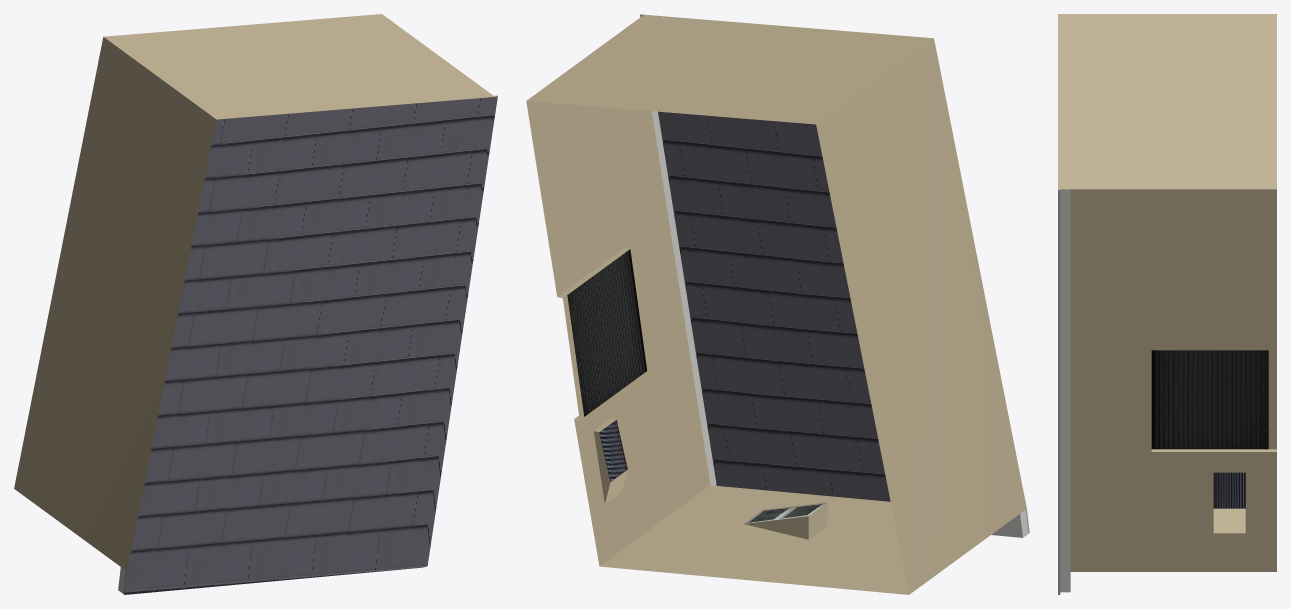
The model's file is Vene_11a-origo.obj.
The picture shows the model from 3 angles, left to right: view 1: azimuth 30°, elevation 25°; view 2: azimuth 150°, elevation 25°; view 3: azimuth 270°, elevation 25°; orthographic projection. The views are drawn at different scales.
Parts seen in each view (by area): view 1: Vene11a; view 2: Vene11a; view 3: Vene11a.
Part boxes in pixels (box(x1,y1,x2,y2)): Vene11a: box(14, 14, 497, 594); Vene11a: box(526, 14, 1029, 594); Vene11a: box(1058, 14, 1276, 594).
Size of the model in its own units: 8.62 by 11 by 4.53.
7 materials, 7 textured.
